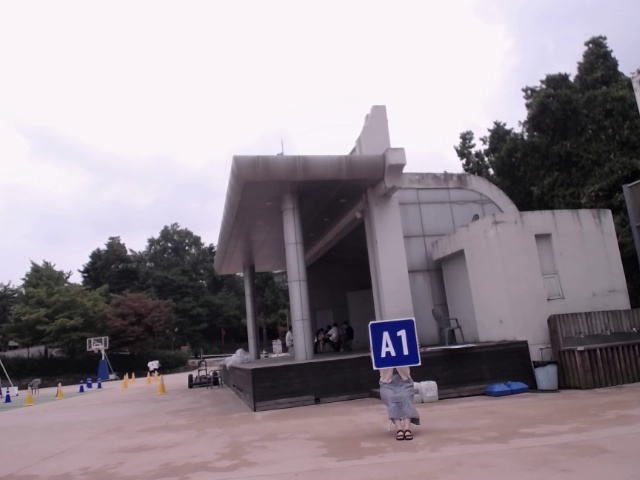delivery_a1: (369, 319, 421, 369)
